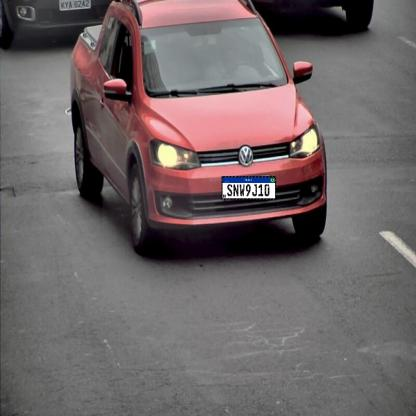PlacaM: (222, 176, 276, 200)
